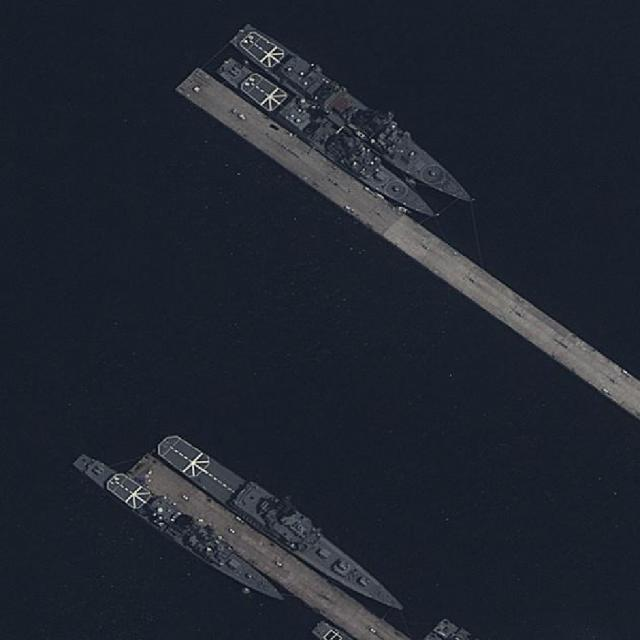Destroyer: (152, 424, 415, 623), (227, 21, 484, 213), (215, 52, 445, 227), (70, 447, 289, 611)
